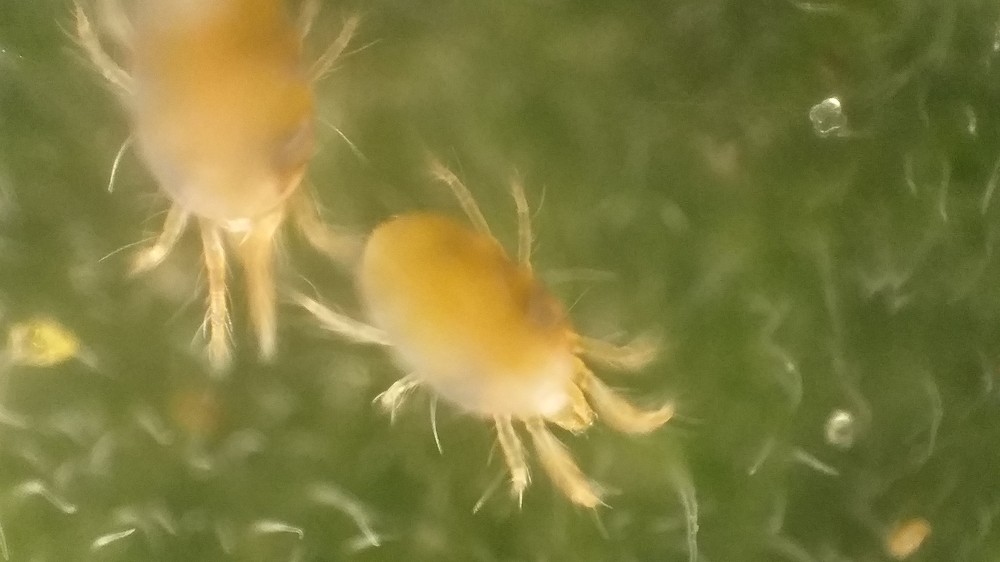Aracnido Rojo: (331, 174, 682, 518), (60, 2, 363, 370)
